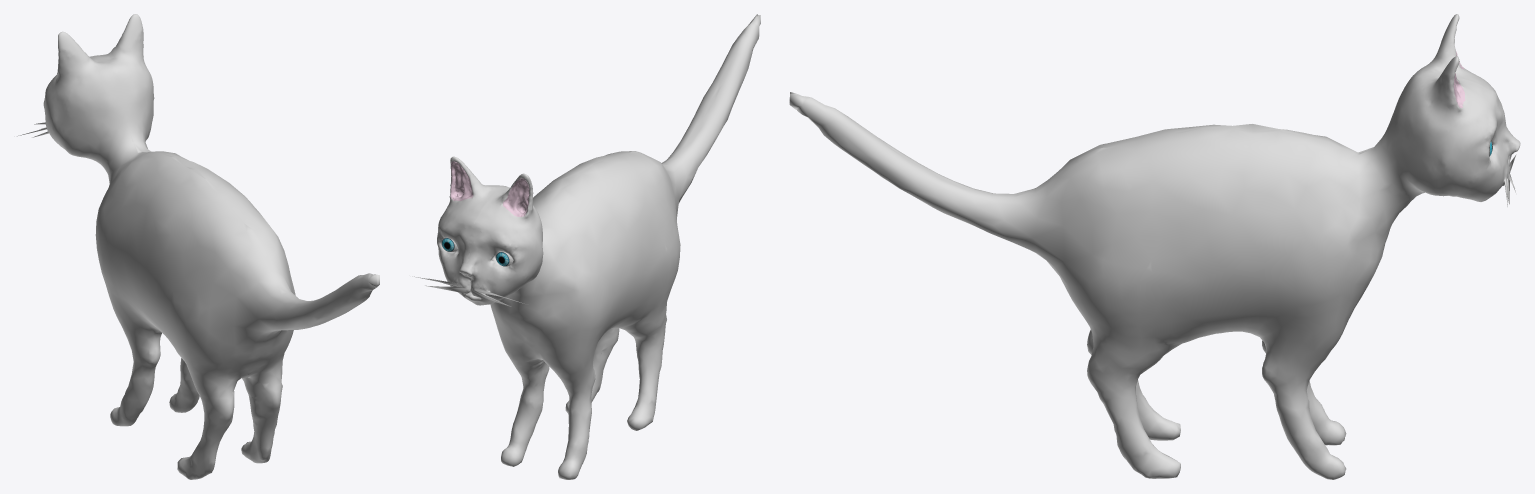
File: PetRaceModel0.fbx
The picture shows the model from 3 angles, left to right: view 1: azimuth 30°, elevation 25°; view 2: azimuth 150°, elevation 25°; view 3: azimuth 270°, elevation 25°; orthographic projection. The views are drawn at different scales.
Visible parts, largest first — view 1: White Cat; view 2: White Cat, Eyes.001; view 3: White Cat.
Boxes of the visible parts, box(x1,y1,x2,y2) form: White Cat: box(17, 14, 379, 479); White Cat: box(412, 14, 760, 479); Eyes.001: box(441, 238, 513, 266); White Cat: box(789, 14, 1520, 479).
Bounding box in the file's own units: 225 × 606 × 946.
